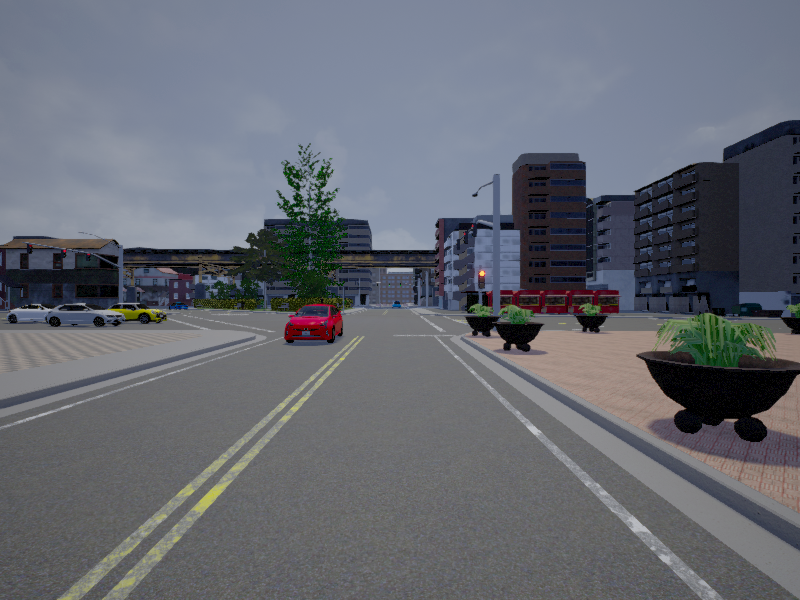Benign: (284, 304, 343, 344), (45, 304, 125, 327), (6, 304, 61, 324), (107, 304, 164, 322)
